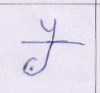ai_matra: (40, 18, 61, 41)
